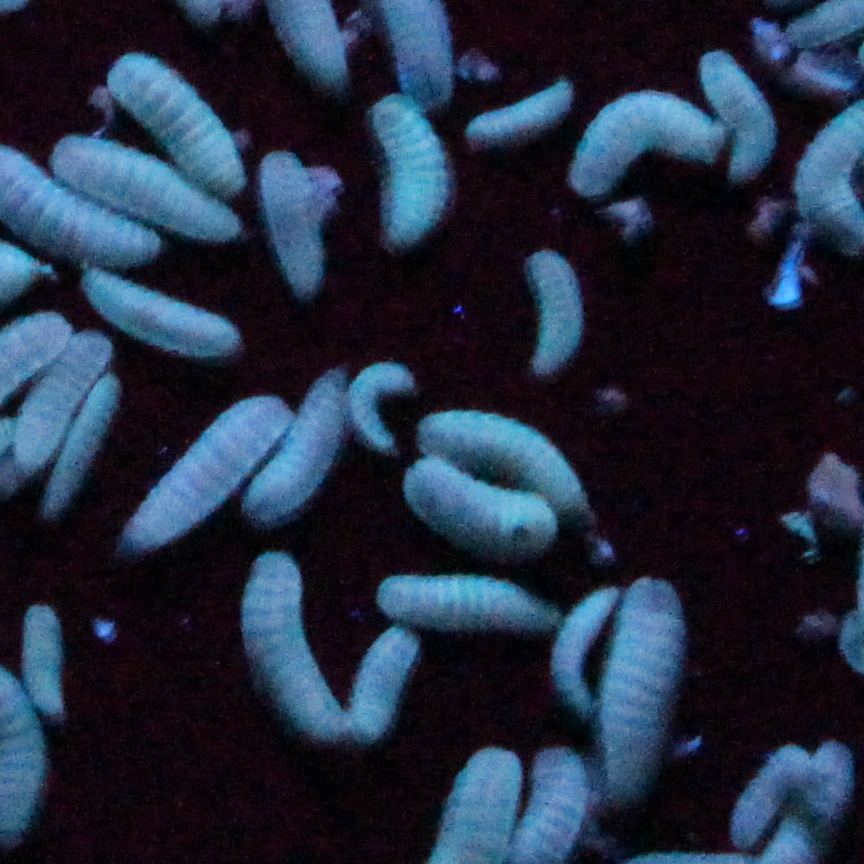larve: (115, 388, 293, 548), (242, 552, 364, 767), (417, 390, 607, 518), (49, 134, 242, 245), (97, 56, 246, 194), (602, 570, 686, 798), (397, 456, 558, 568), (253, 358, 360, 521), (80, 263, 240, 370), (375, 567, 569, 641), (569, 92, 718, 188), (367, 88, 457, 239), (258, 147, 340, 305), (13, 332, 111, 456), (42, 378, 122, 519), (509, 241, 586, 378), (700, 47, 777, 174), (538, 590, 617, 708), (351, 625, 418, 741), (17, 598, 77, 721), (462, 78, 578, 141), (737, 747, 809, 841), (351, 354, 418, 454)
